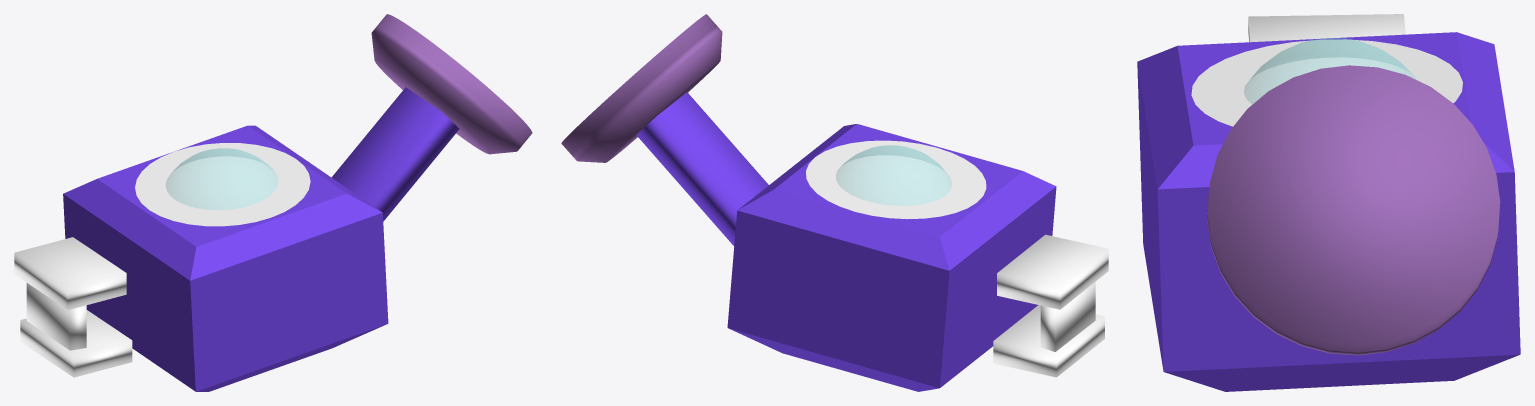
Rendered from edit_water_vessel copy.glb.
3 renders of one model, left to right at view 1: azimuth 30°, elevation 25°; view 2: azimuth 150°, elevation 25°; view 3: azimuth 270°, elevation 25°, orthographic. The views are drawn at different scales.
Visible parts, largest first — view 1: squarebody, ui, Cube, watering, spout, water sphere; view 2: squarebody, Cube, ui, watering, spout, water sphere; view 3: watering, squarebody, ui, water sphere, Cube.
Boxes of the visible parts, x1,y1,x2,y2 form: squarebody: (63, 125, 388, 391); ui: (135, 143, 310, 226); Cube: (14, 237, 132, 377); watering: (371, 14, 532, 154); spout: (331, 87, 459, 221); water sphere: (166, 148, 278, 209); squarebody: (727, 124, 1056, 391); Cube: (993, 234, 1108, 377); ui: (806, 140, 986, 219); watering: (561, 14, 722, 162); spout: (636, 92, 768, 246); water sphere: (836, 145, 951, 205); watering: (1207, 65, 1500, 355); squarebody: (1137, 32, 1520, 391); ui: (1191, 39, 1462, 126); water sphere: (1244, 38, 1416, 103); Cube: (1248, 14, 1405, 42).
Bounding box in the file's own units: 1.8 × 0.982 × 0.798.
